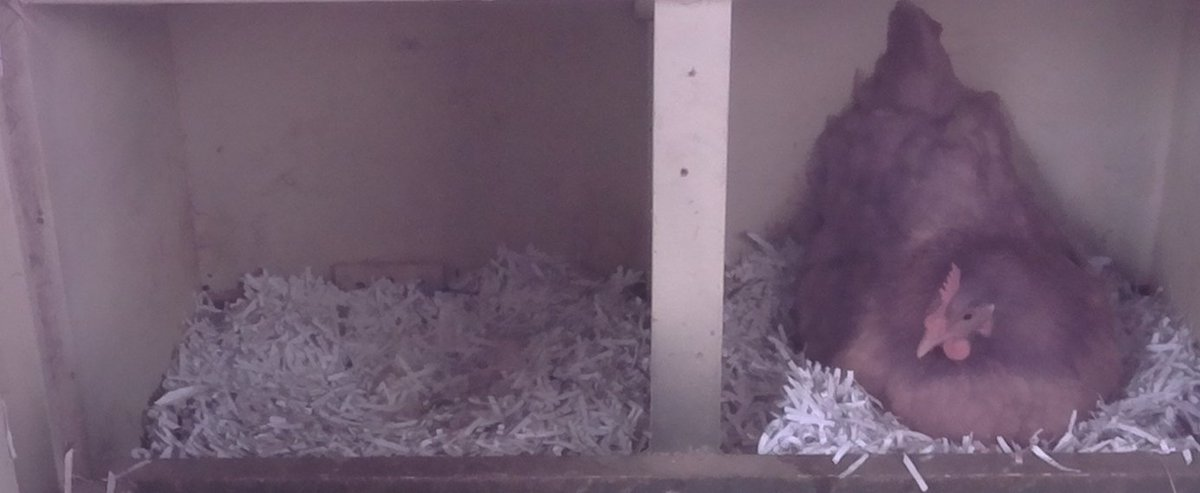hen: (789, 11, 1143, 445)
